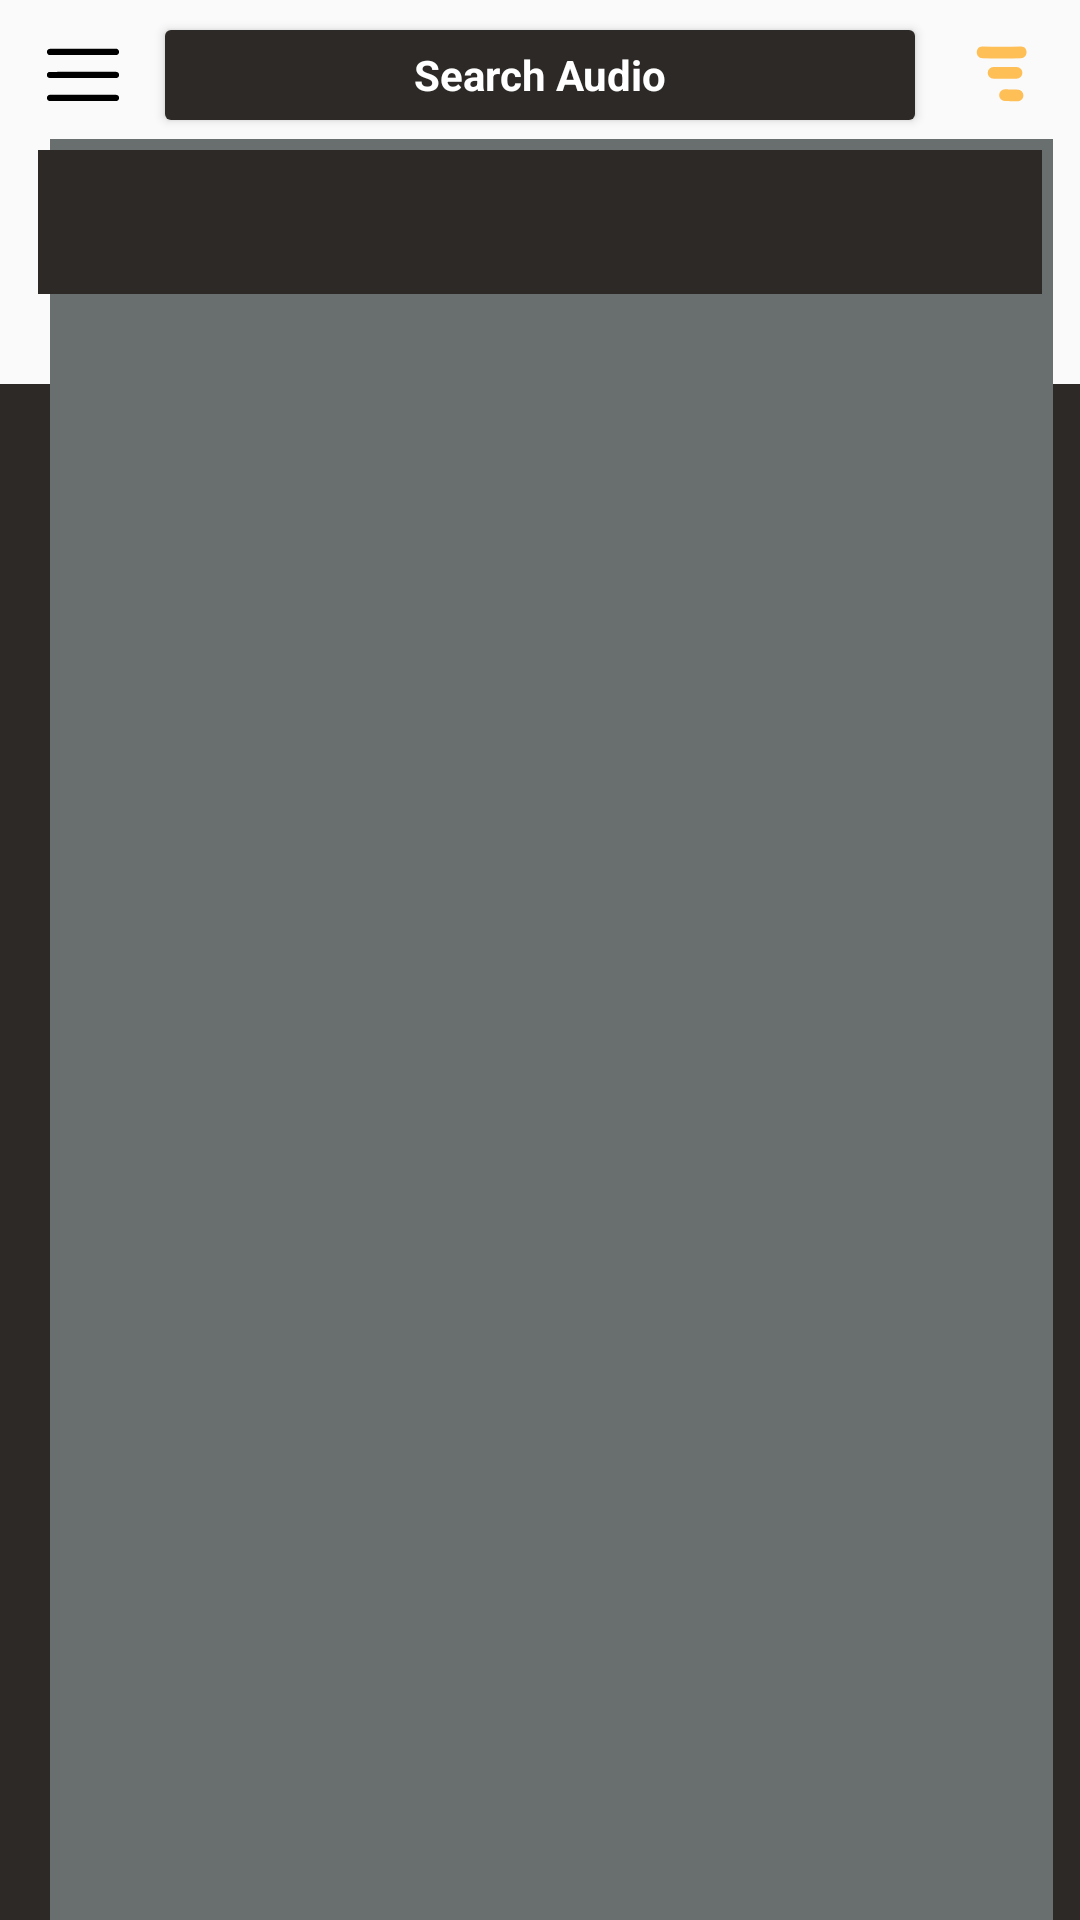

Named icons in this screenshot (1080 × 1920) and their bounding boxes, (x1, y1, x2, y2):
menu: (47, 48, 119, 101)
